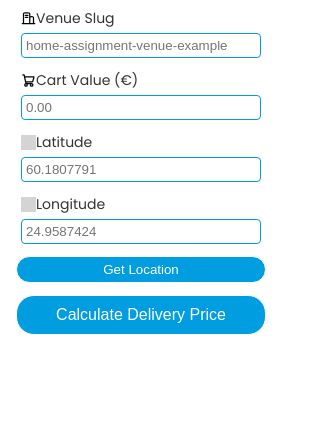
Test: PriceCalculatorForm Component › clears all errors when inputs are corrected
Click the button "Calculate Delivery Price": (141, 315) [16,295,266,335]
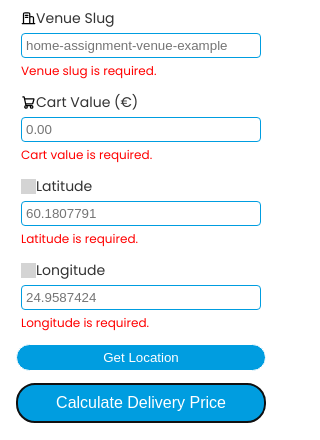
Check: the text "Venue slug is required." is shown, box [21,62,156,80]
Check: the text "Cart value is required." is shown, box [21,146,152,164]
Check: the text "Latitude is required." is shown, box [21,230,138,248]
In the field labelled "Venue Slug": (141, 46) [21,33,261,58], type "some-venue"
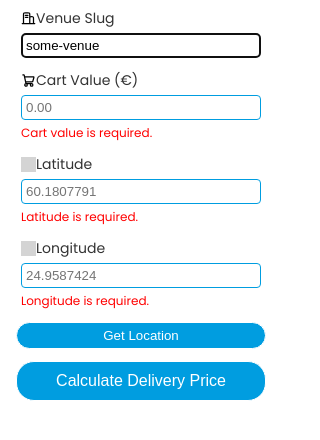
In the field labelled "Cart Value (€)": (141, 108) [21,95,261,120], type "10"
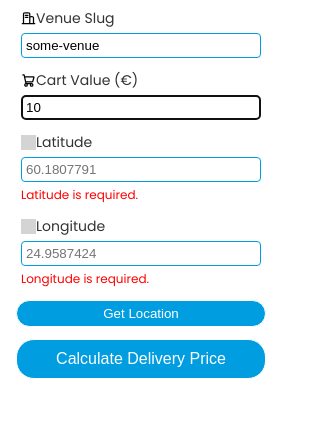
In the number field labelled "Latitude": (141, 170) [21,157,261,182], type "60"
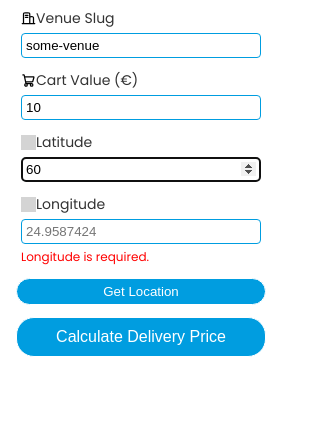
In the number field labelled "Longitude": (141, 232) [21,219,261,244], type "24"
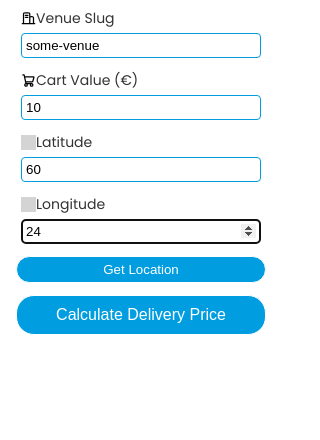
Check: the text "Venue slug is required." is not shown
Check: the text "Longitude is required." is gone
